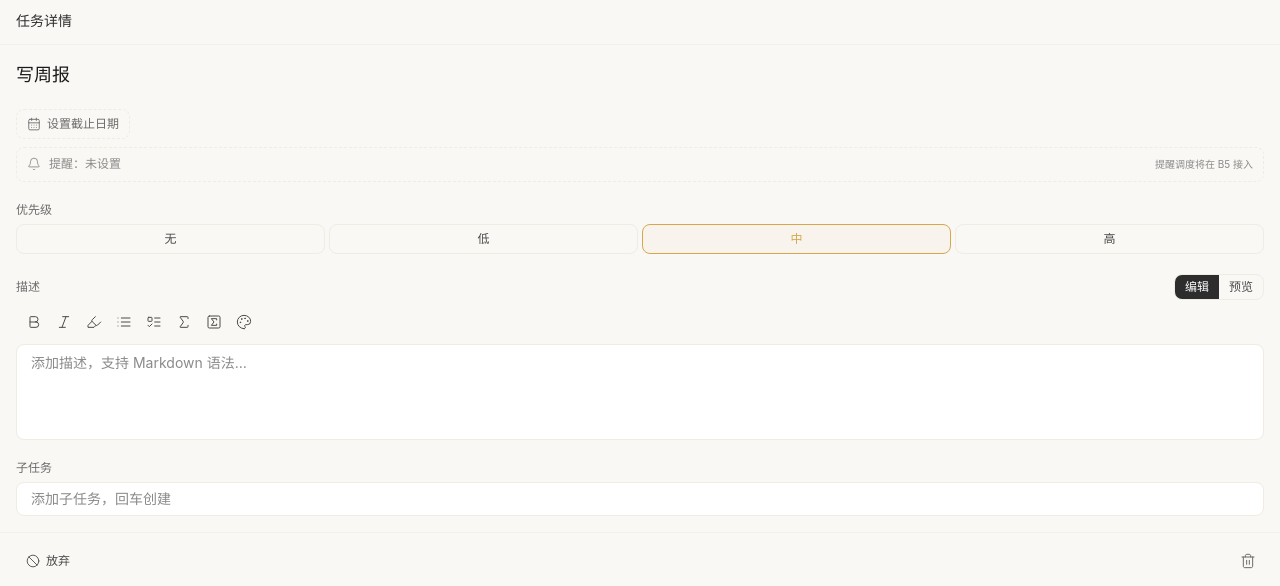
TaskDetail · 描述（D6 Markdown 双态） › 失焦即保存（点其他控件触发 blur）
Step 1. Type "先存一段" into the text box named "任务描述" → (640, 392), box [16,344,1264,440]
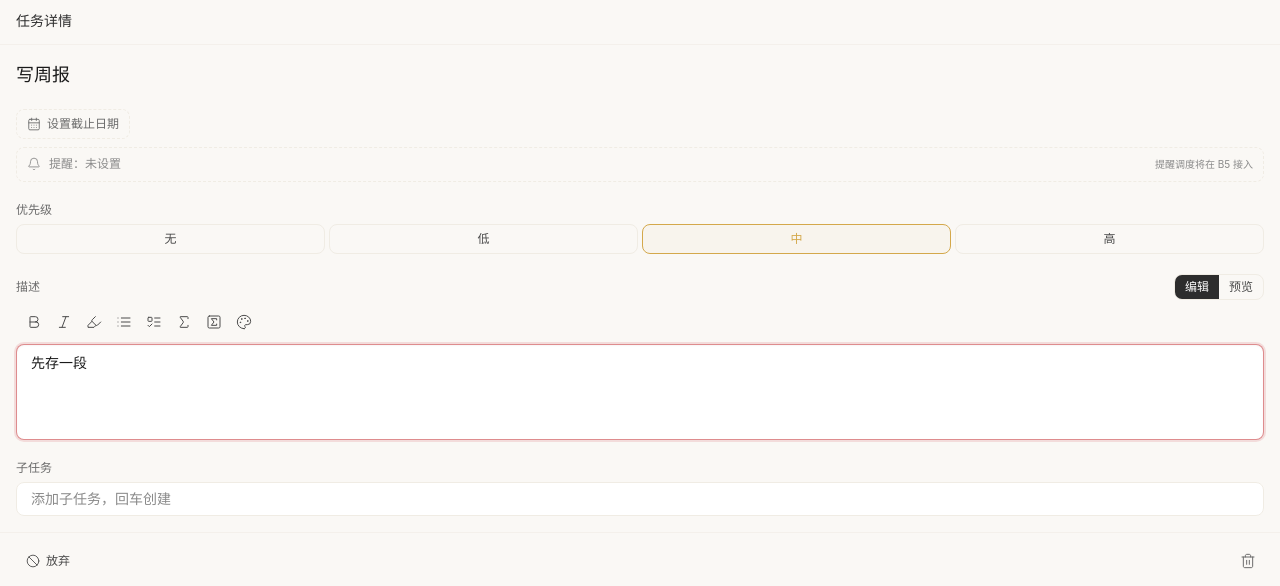
Step 2. Click the radio button labelled "高" → click(1110, 238), box [955,224,1264,254]
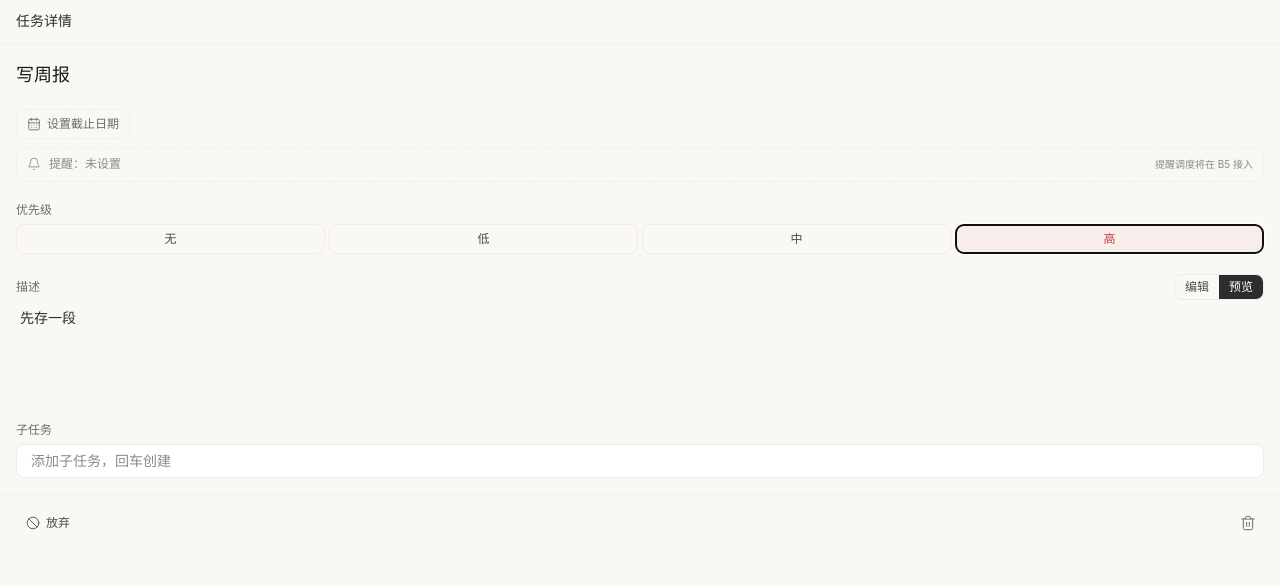
Result: the text "先存一段" is shown at [20,308,76,326]
